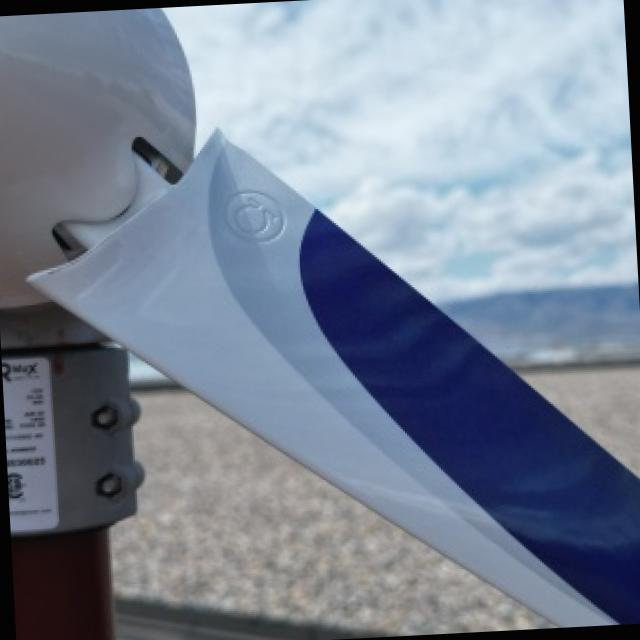healthy: (111, 398, 528, 628), (452, 284, 639, 353)
